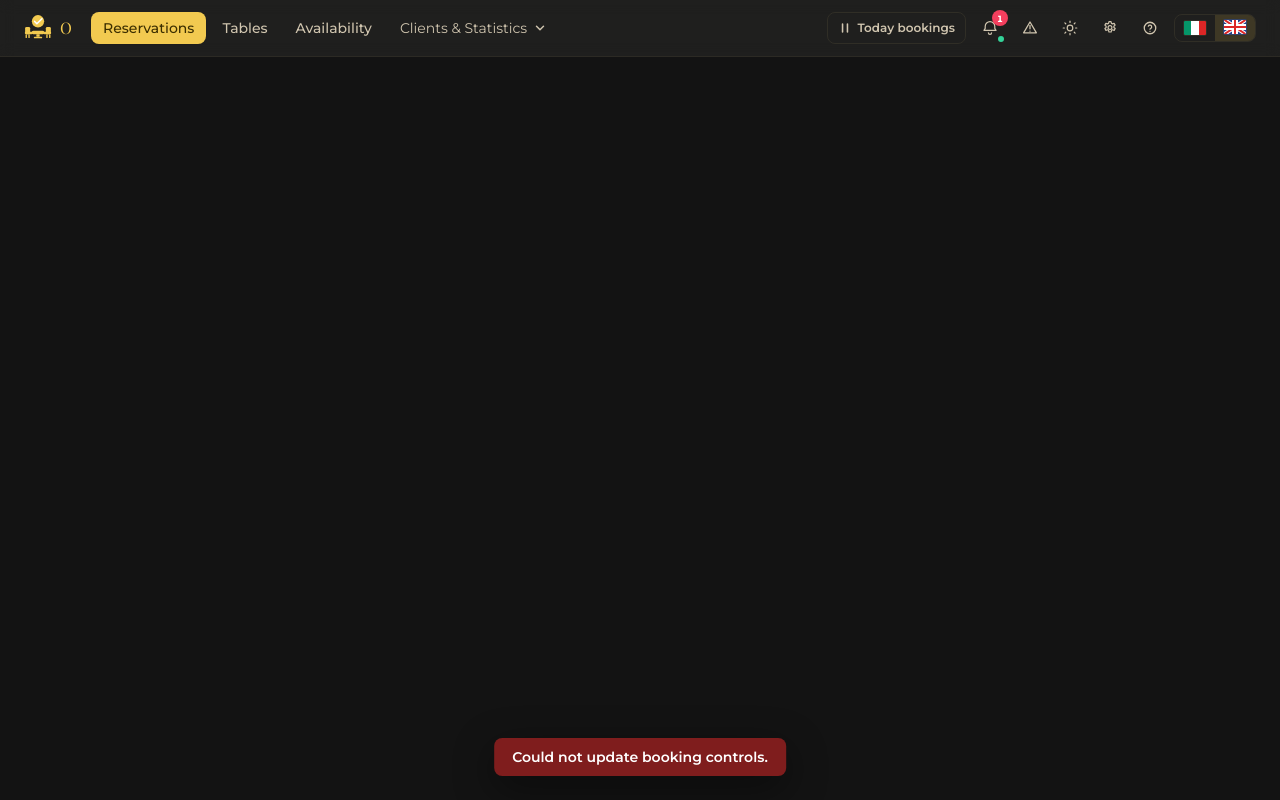
Test: AdminShell › labels TheFork update notifications with provider and status
The width and height of the screenshot is (1280, 800).
Click the button named "notifications" at [990, 28], box x1=974 y1=12 x2=1006 y2=44
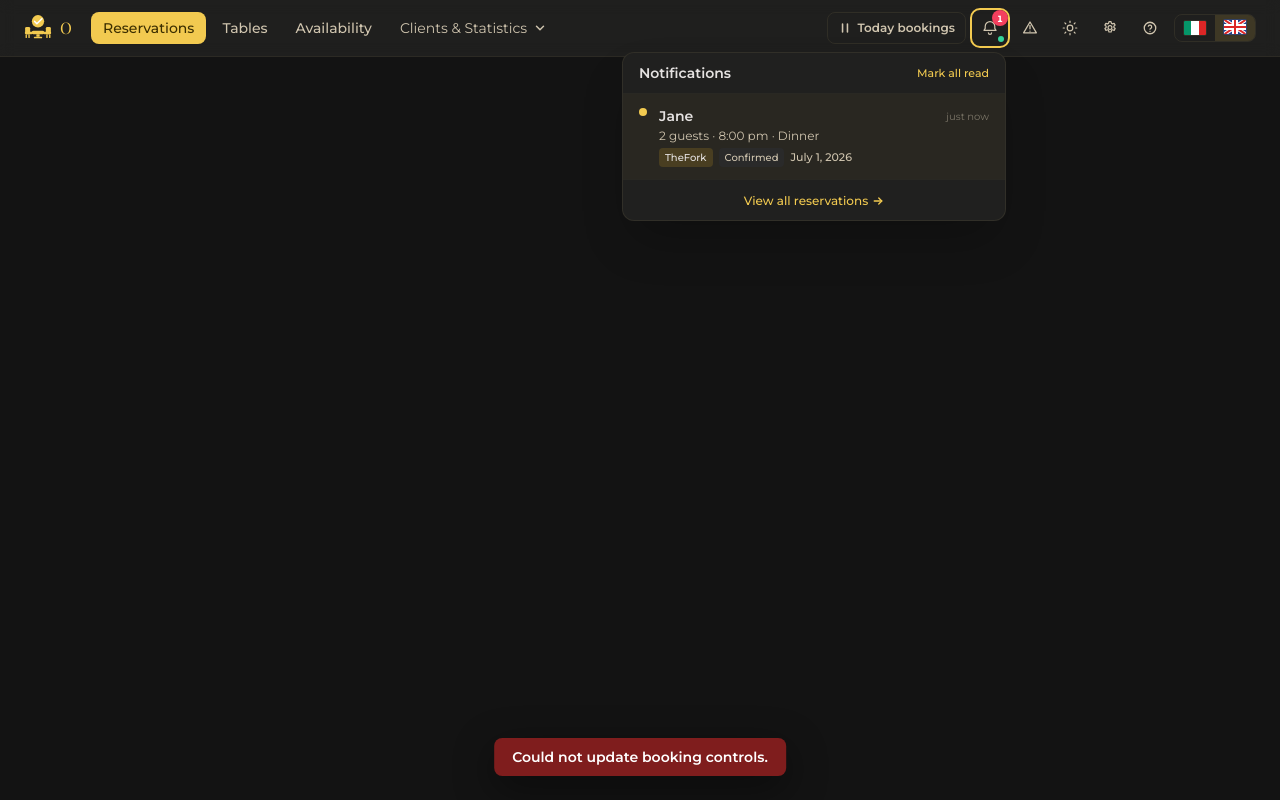
Check: the text "TheFork" is shown, box x1=659 y1=148 x2=712 y2=167
Check: the text "Confirmed" is shown, box x1=718 y1=148 x2=784 y2=167
